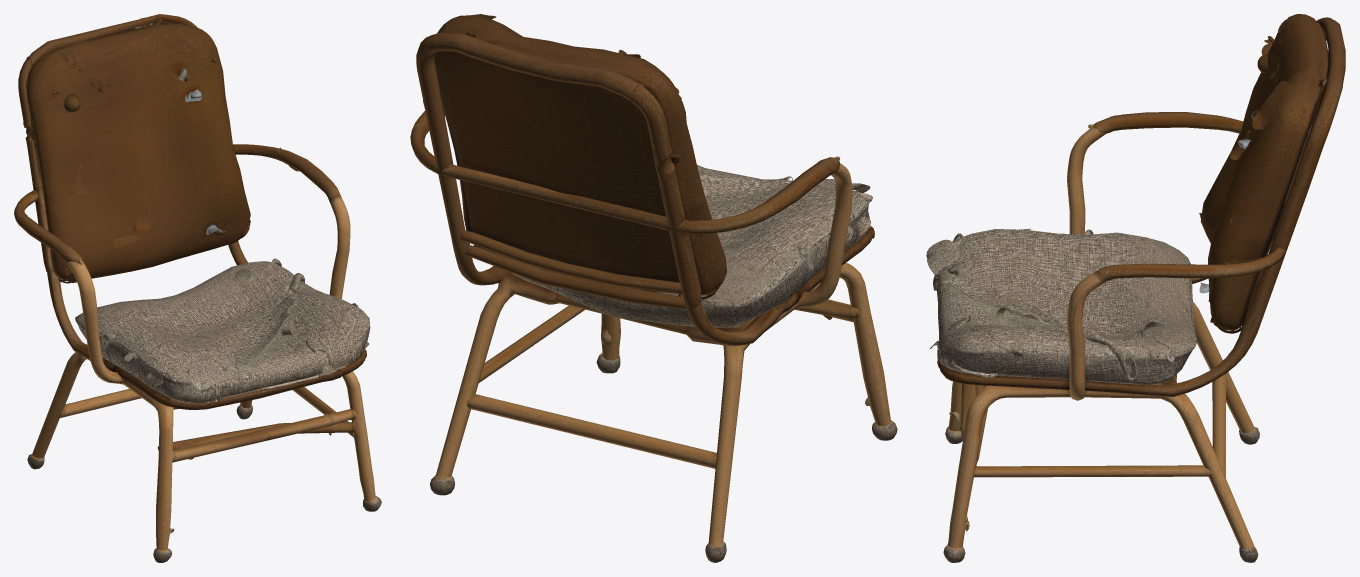
Rendered from tripo_convert_258e857f-67b5-4065-aa5c-bfaa13608c2c.fbx.
3 renders of one model, left to right at view 1: azimuth 30°, elevation 25°; view 2: azimuth 150°, elevation 25°; view 3: azimuth 270°, elevation 25°, orthographic. The views are drawn at different scales.
Parts seen in each view (by area): view 1: tripo_node_258e857f; view 2: tripo_node_258e857f; view 3: tripo_node_258e857f.
Part boxes in pixels (<box>): tripo_node_258e857f: <box>14,14,381,562</box>; tripo_node_258e857f: <box>410,14,897,562</box>; tripo_node_258e857f: <box>926,14,1345,562</box>.
Bounding box in the file's own units: 0.7544 × 0.9995 × 0.8394.
Materials: 1 (1 with a texture image).
